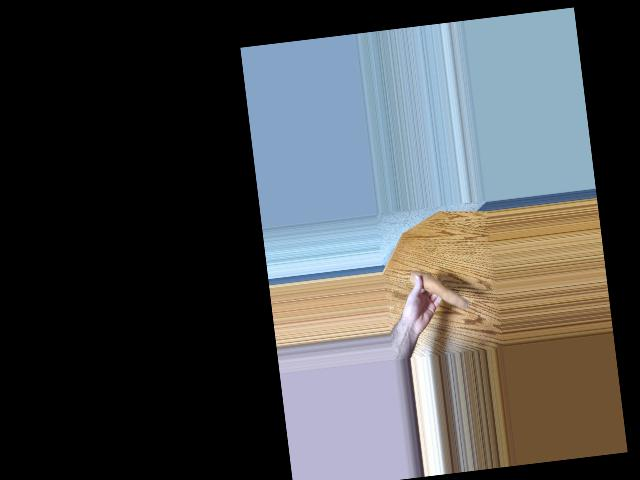sweet_potato: (410, 267, 469, 316)
